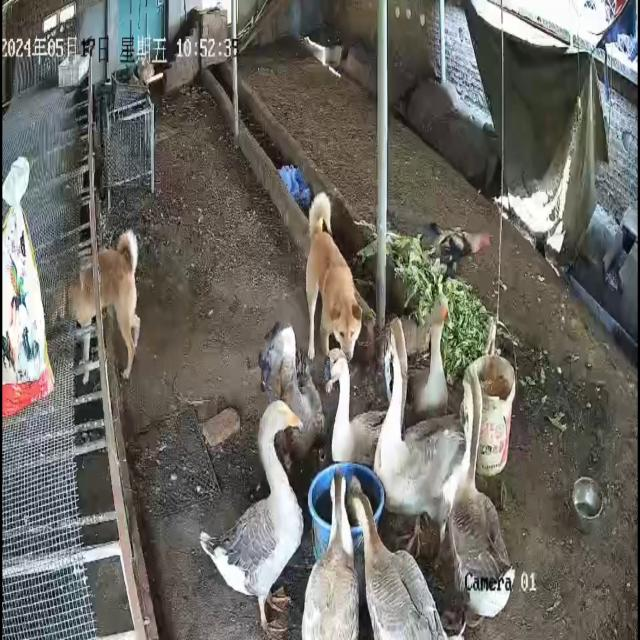dog: (67, 229, 142, 385), (306, 192, 367, 367)
